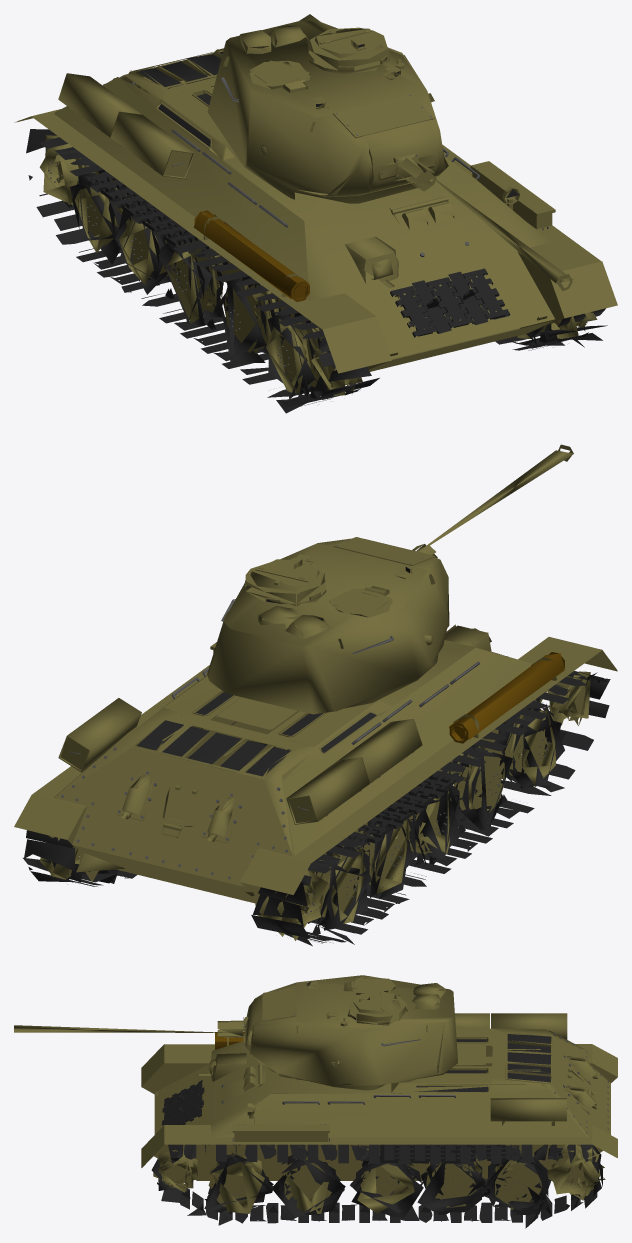
File: tank_lod2.glb
The picture shows the model from 3 angles, top to bottom: view 1: azimuth 30°, elevation 25°; view 2: azimuth 150°, elevation 25°; view 3: azimuth 270°, elevation 25°; orthographic projection. The views are drawn at different scales.
Parts seen in each view (by area): view 1: L.wheel.006_T-34 Body_0.003, L.Truck_T-34 Truck_0.006, T34 Head_T-34 nails_0.003, L.Truck.002_T-34 nails_0.003; view 2: L.wheel.006_T-34 Body_0.003, L.Truck_T-34 Truck_0.006, T34 Head_T-34 nails_0.003, L.Truck.002_T-34 nails_0.003; view 3: L.wheel.006_T-34 Body_0.003, L.Truck_T-34 Truck_0.006, L.Truck.002_T-34 nails_0.003.
Boxes of the visible parts, x1=… form: L.wheel.006_T-34 Body_0.003: x1=14, y1=14, x2=617, y2=395; L.Truck_T-34 Truck_0.006: x1=26, y1=25, x2=607, y2=413; T34 Head_T-34 nails_0.003: x1=193, y1=210, x2=309, y2=301; L.Truck.002_T-34 nails_0.003: x1=48, y1=75, x2=548, y2=366; L.wheel.006_T-34 Body_0.003: x1=14, y1=444, x2=617, y2=940; L.Truck_T-34 Truck_0.006: x1=23, y1=559, x2=610, y2=946; T34 Head_T-34 nails_0.003: x1=449, y1=652, x2=565, y2=743; L.Truck.002_T-34 nails_0.003: x1=61, y1=537, x2=549, y2=913; L.wheel.006_T-34 Body_0.003: x1=14, y1=975, x2=617, y2=1213; L.Truck_T-34 Truck_0.006: x1=151, y1=981, x2=602, y2=1228; L.Truck.002_T-34 nails_0.003: x1=221, y1=988, x2=608, y2=1195.
Size of the model in its own units: 71.37 by 62.61 by 178.
